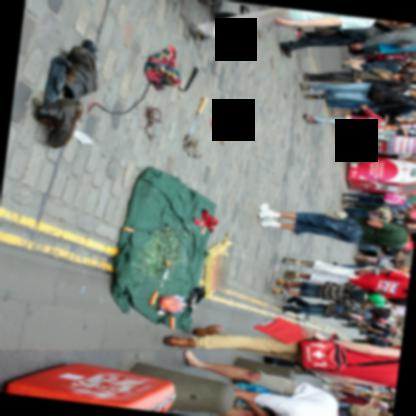backpack: (380, 190, 412, 209), (372, 20, 416, 32), (324, 301, 346, 317)
handbag: (300, 339, 399, 371), (323, 208, 403, 244)
suitcase: (3, 362, 176, 413)
